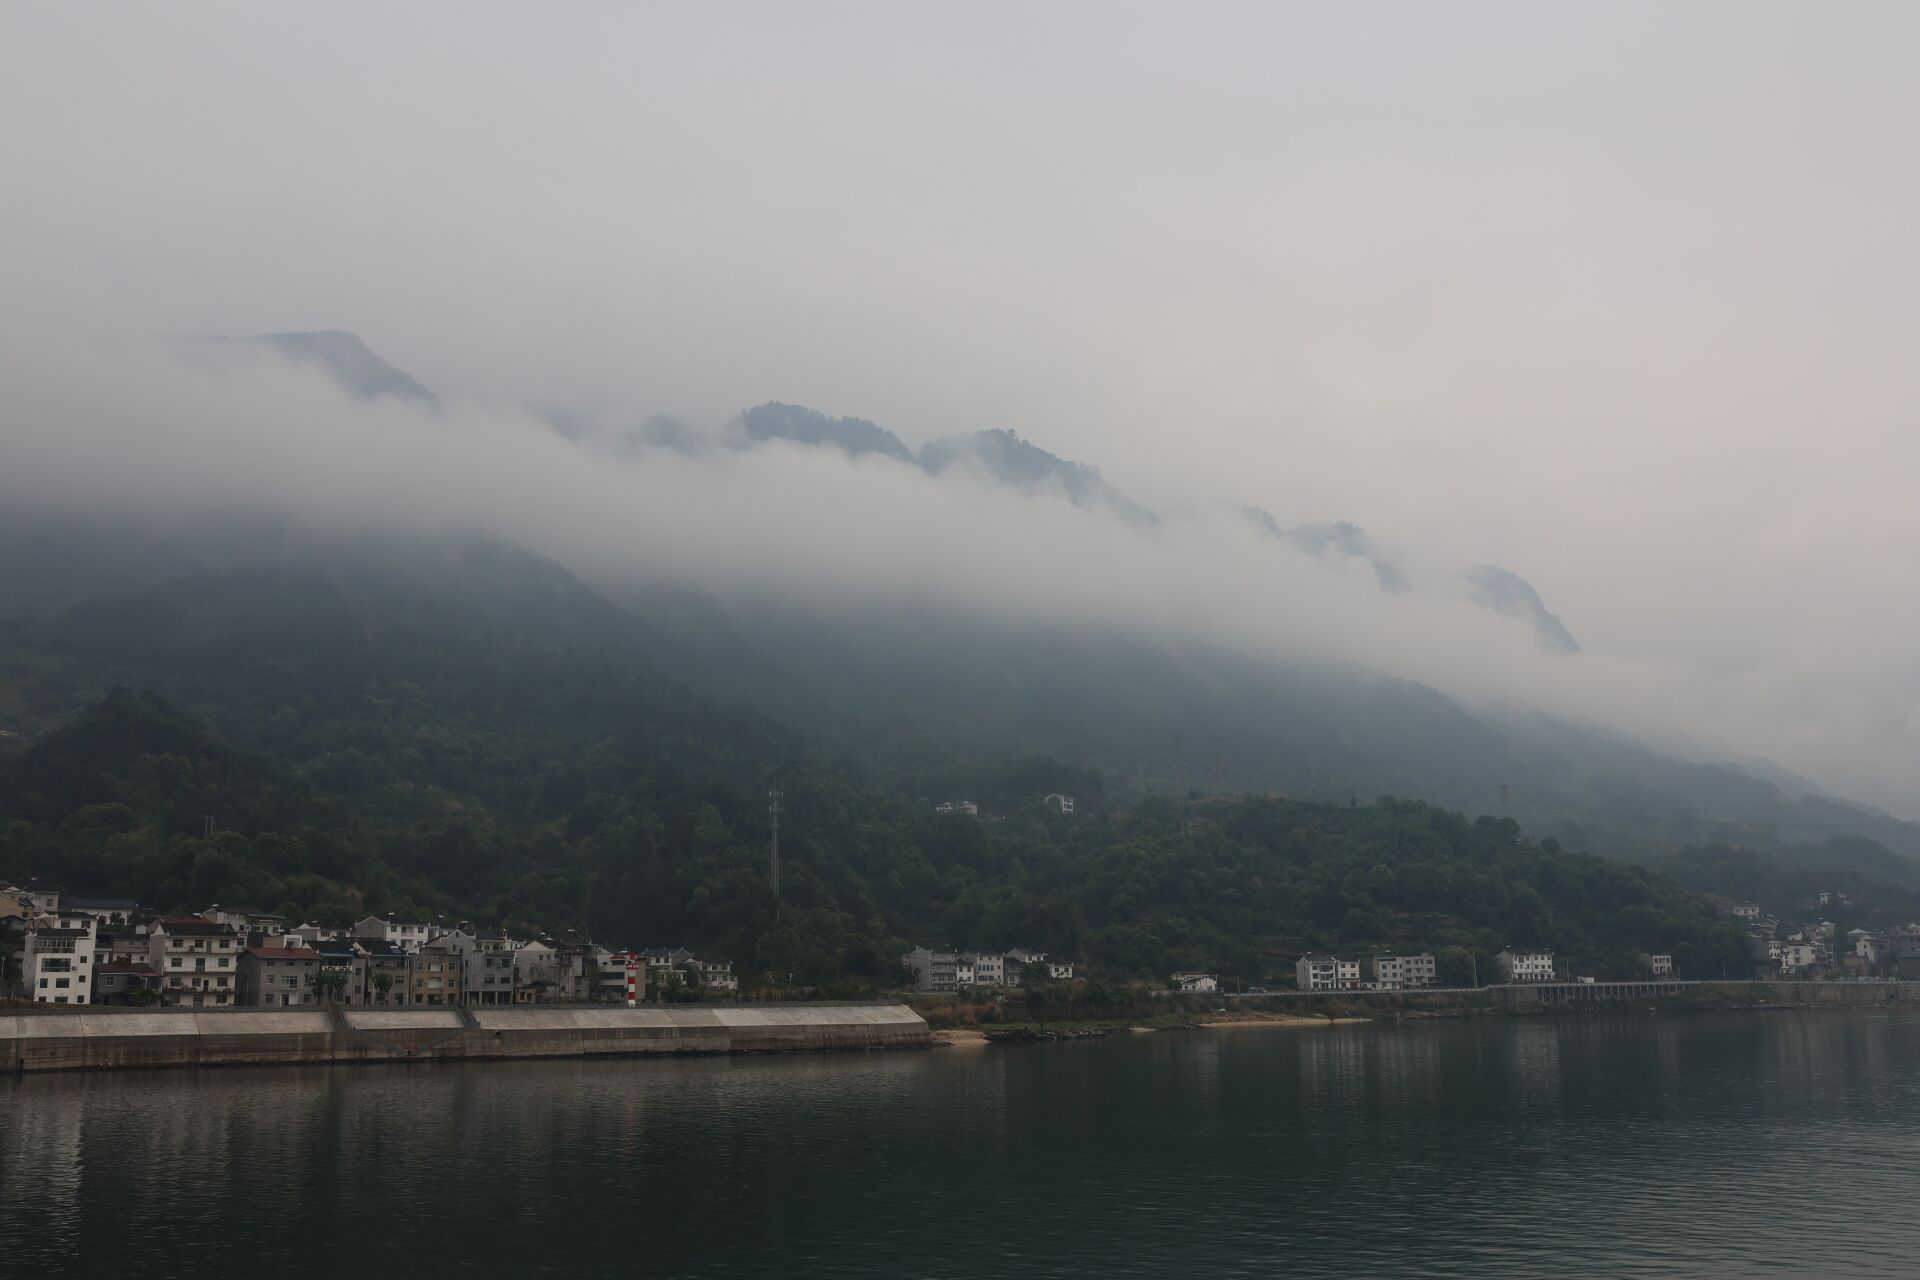Stratus: (29, 317, 1886, 707), (37, 13, 1906, 399)
